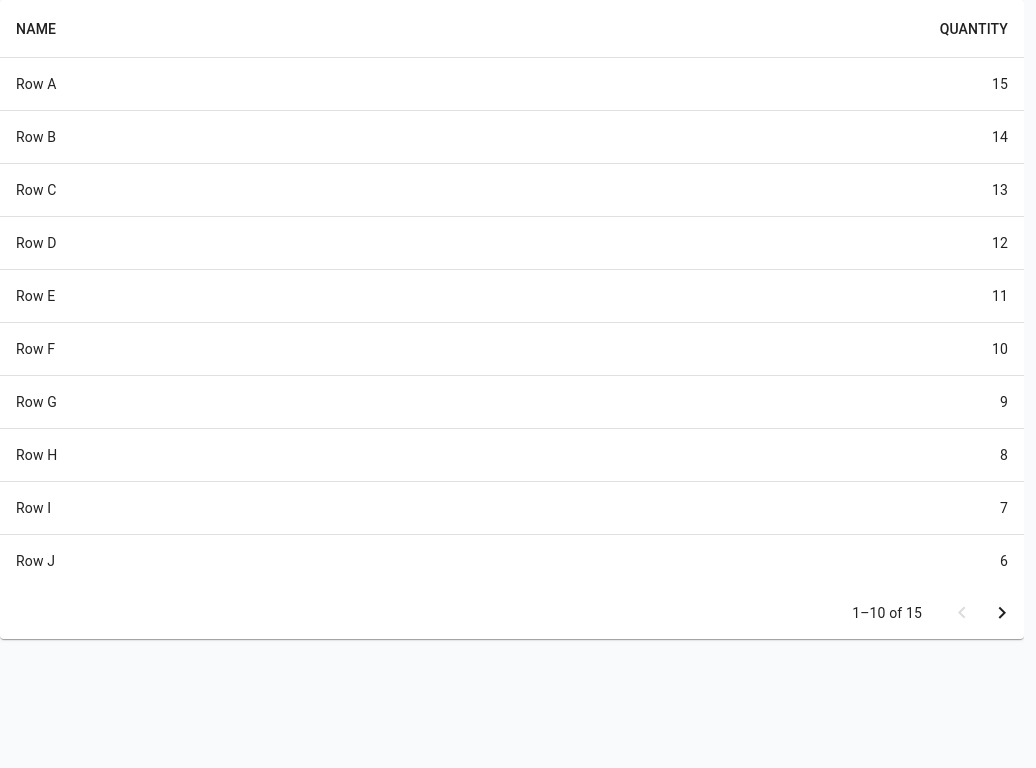
Scenario: DataTable › paginates: clicking next page reveals the next slice
The image size is (1036, 768).
expect the text "Row K" is not shown: met
Click the button named "next page". click: (1002, 614)
box: [982,594,1022,634]
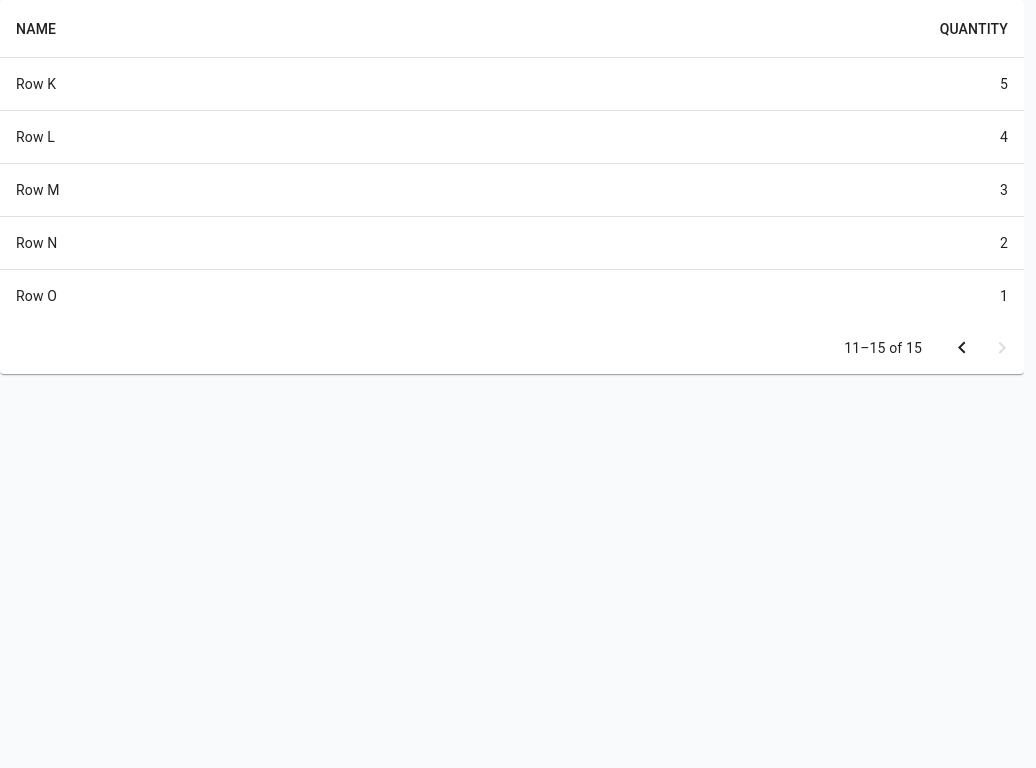
expect the text "Row K" is shown: met, box [0,58,448,111]
